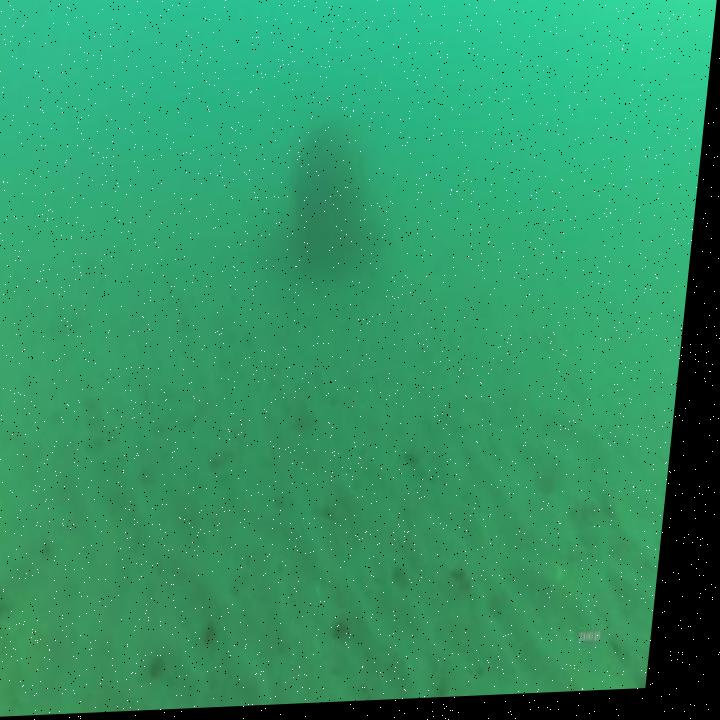starfish: (0, 595, 18, 643)
